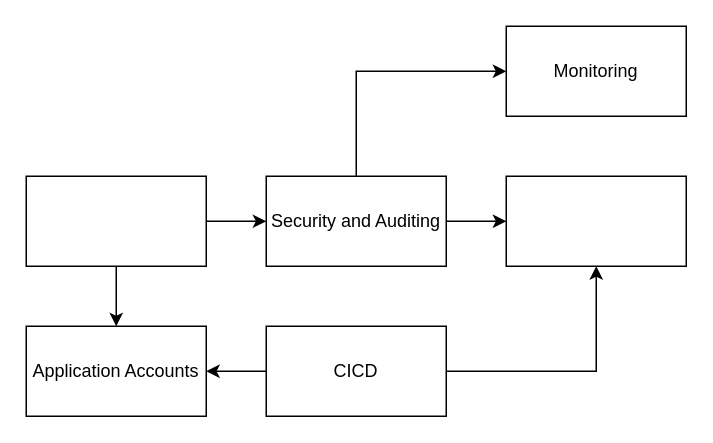
The diagram is 713 pixels wide and 443 high, and some of its shapes have lost their labels. Here are the shapes that lost their labels. From the top down, the box of each, then its label:
(25, 175, 206, 266): New Account Structure
(505, 175, 686, 266): Business Intelligence
